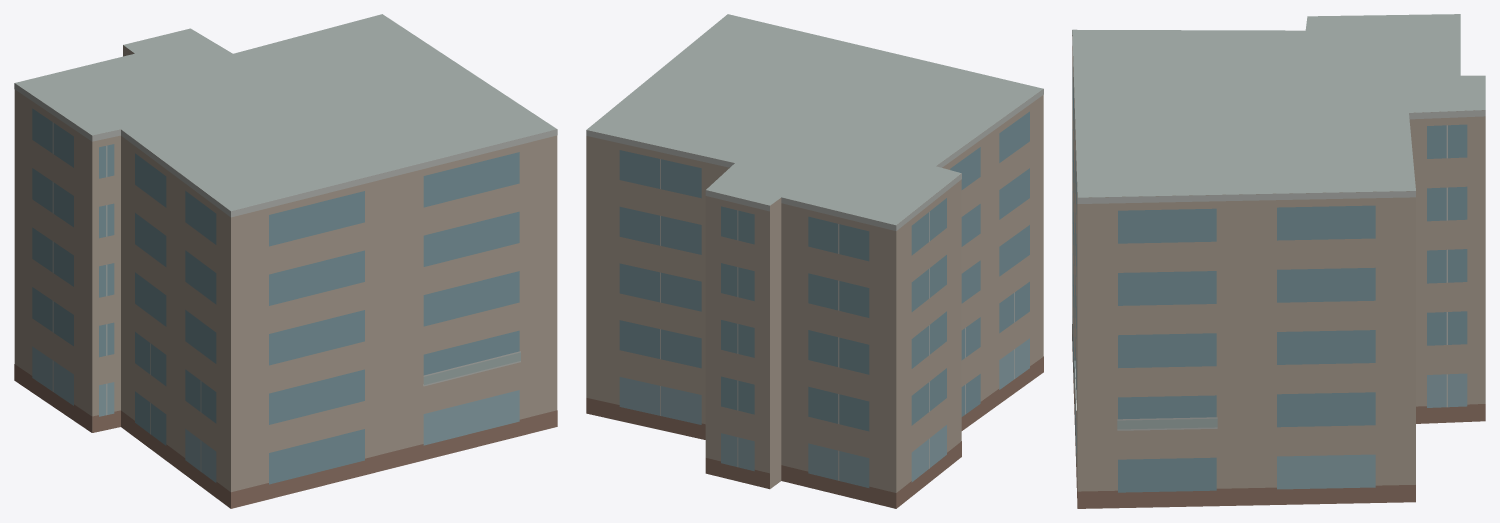
Rendered from survey-upis-33001339.glb.
3 renders of one model, left to right at view 1: azimuth 30°, elevation 25°; view 2: azimuth 150°, elevation 25°; view 3: azimuth 270°, elevation 25°, orthographic. The views are drawn at different scales.
Parts seen in each view (by area): view 1: survey-upis-33001339.tmp; view 2: survey-upis-33001339.tmp; view 3: survey-upis-33001339.tmp.
Boxes of the visible parts, <box> form: survey-upis-33001339.tmp: <box>14,14,557,508</box>; survey-upis-33001339.tmp: <box>586,14,1043,508</box>; survey-upis-33001339.tmp: <box>1072,14,1485,508</box>.
Size of the model in its own units: 14.94 by 11.8 by 14.22.
